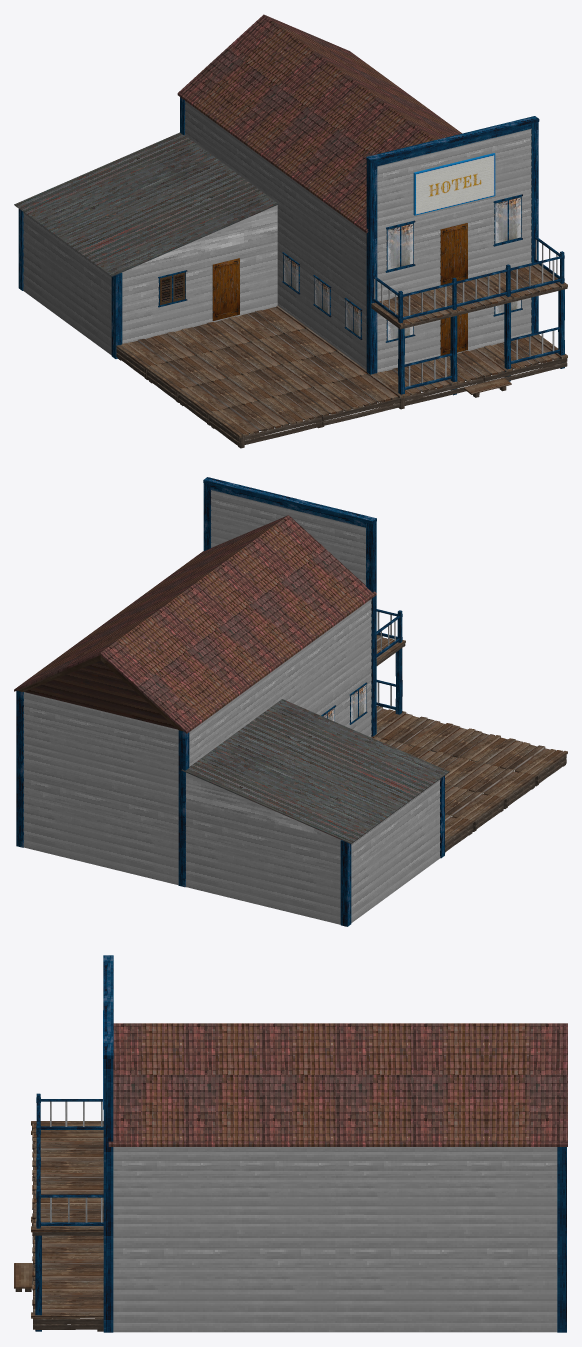
The model's file is Hotel_Building.fbx.
3 renders of one model, top to bottom at view 1: azimuth 30°, elevation 25°; view 2: azimuth 150°, elevation 25°; view 3: azimuth 270°, elevation 25°, orthographic. The views are drawn at different scales.
Parts seen in each view (by area): view 1: Hotel_Building; view 2: Hotel_Building; view 3: Hotel_Building.
Boxes of the visible parts, box(x1,y1,x2,y2) form: Hotel_Building: box(14, 14, 567, 448); Hotel_Building: box(14, 477, 567, 926); Hotel_Building: box(14, 955, 567, 1332).
Bounding box in the file's own units: 1248 × 810 × 1465.
Materials: 13 (13 with a texture image).
